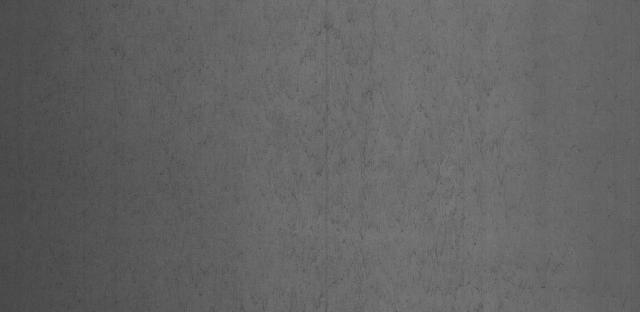silk_spot: (189, 12, 556, 283)
